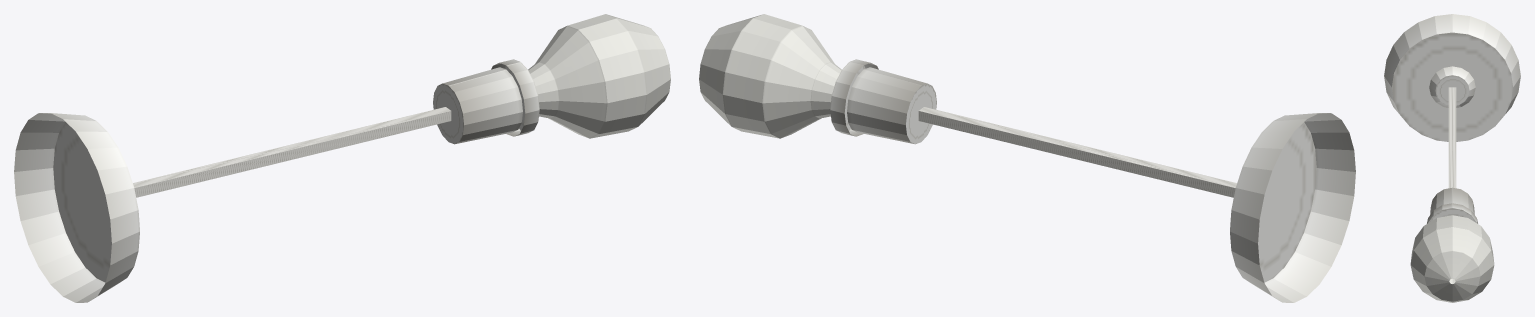
File: ukceilingrose.obj
The picture shows the model from 3 angles, left to right: view 1: azimuth 30°, elevation 25°; view 2: azimuth 150°, elevation 25°; view 3: azimuth 270°, elevation 25°; orthographic projection. The views are drawn at different scales.
Parts seen in each view (by area): view 1: socket_unlightable, lampOff; view 2: socket_unlightable, lampOff; view 3: socket_unlightable, lampOff.
Part boxes in pixels (left/top/right/bottom): socket_unlightable: left=14, top=59, right=539, bottom=302; lampOff: left=528, top=14, right=670, bottom=138; socket_unlightable: left=830, top=59, right=1355, bottom=302; lampOff: left=699, top=14, right=841, bottom=138; socket_unlightable: left=1384, top=14, right=1520, bottom=223; lampOff: left=1410, top=215, right=1494, bottom=302.
Size of the model in its own units: 0.625 by 0.176 by 0.176.
Materials: 3 (3 with a texture image).
